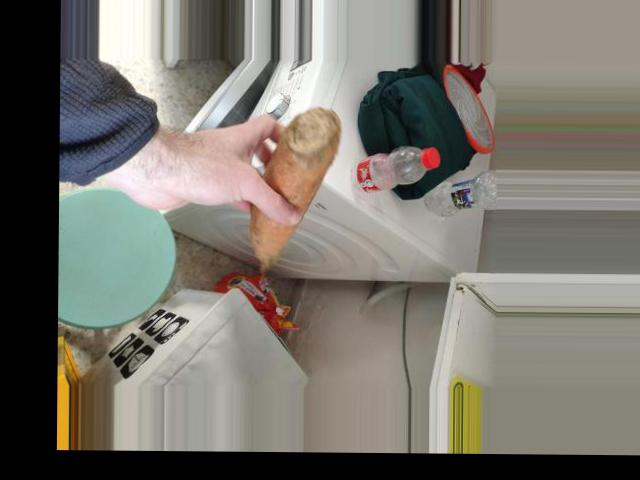sweet_potato: (237, 117, 347, 258)
